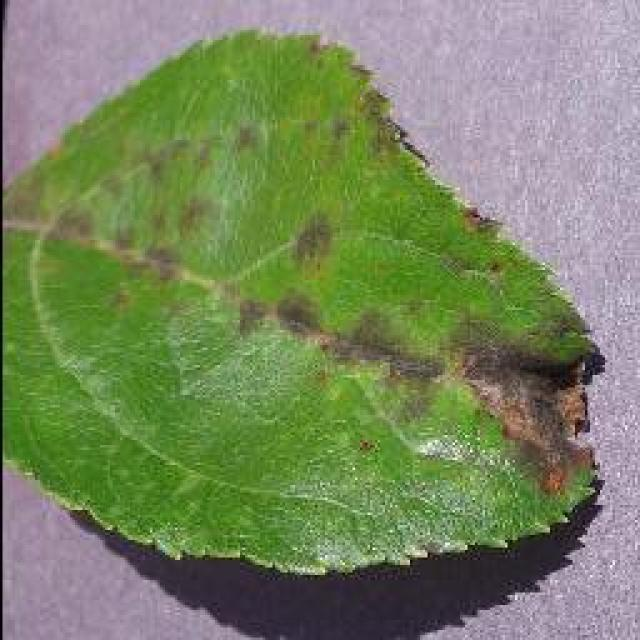apple scab disease: (0, 25, 605, 577)
